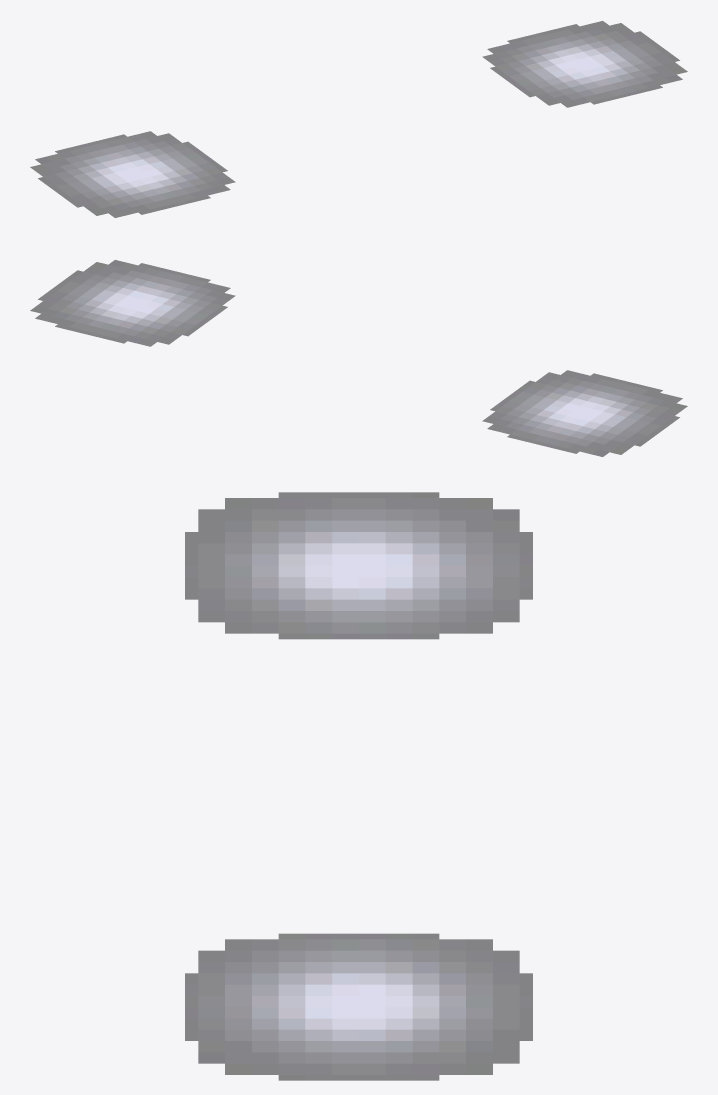
3 views of the same model, one above another, from view 1: azimuth 30°, elevation 25°; view 2: azimuth 150°, elevation 25°; view 3: azimuth 270°, elevation 25° (orthographic). The views are drawn at different scales.
Visible parts, largest first — view 1: Hk_obj_061; view 2: Hk_obj_061; view 3: Hk_obj_061.
Part boxes in pixels (box(x1,y1,x2,y2)): Hk_obj_061: box(30, 21, 687, 217); Hk_obj_061: box(30, 260, 687, 456); Hk_obj_061: box(185, 492, 532, 1080).
Size of the model in its own units: 1 by 0 by 0.25.
Materials: 1 (1 with a texture image).
